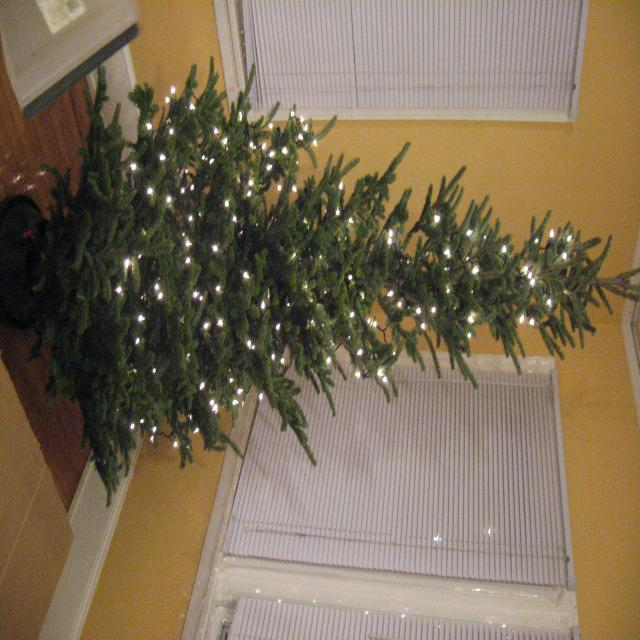Christmas-tree: (43, 0, 361, 640)
